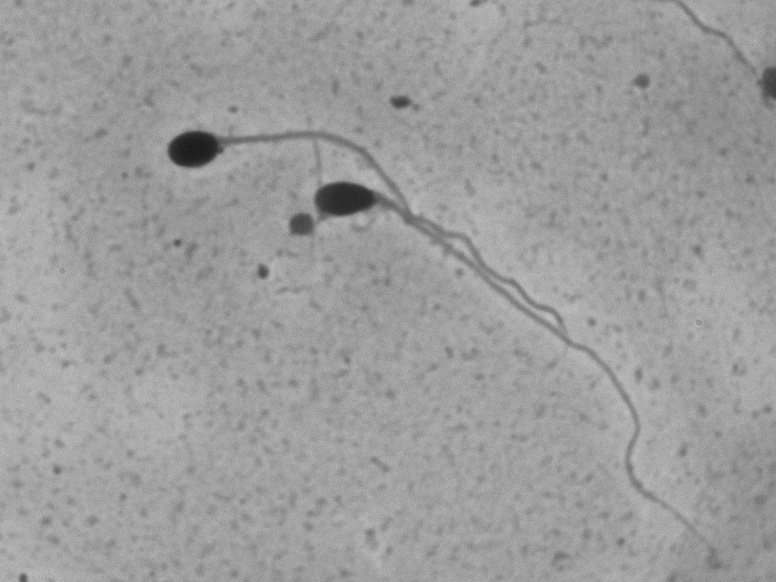Abnormal: (134, 82, 407, 176)
Normal: (287, 177, 722, 560)
